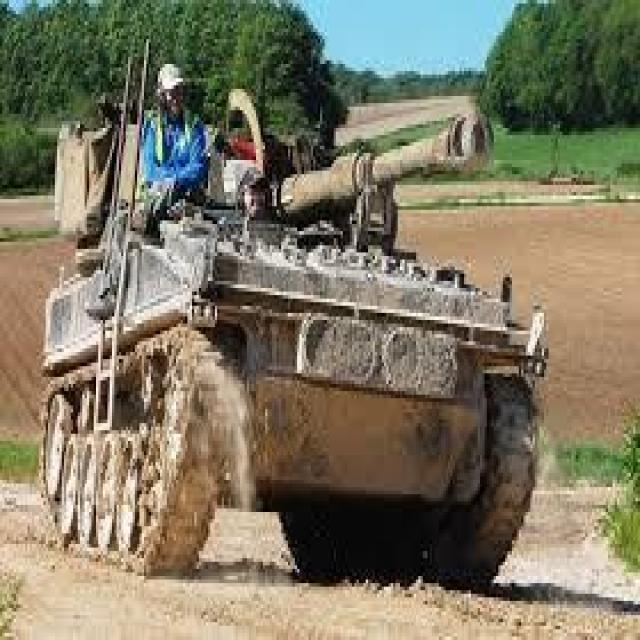Tanks: (38, 28, 550, 601)
